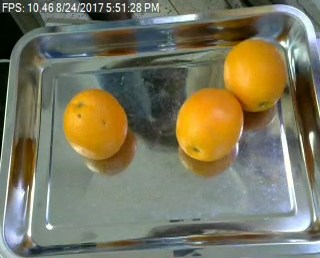Orange: (176, 86, 244, 160), (223, 38, 287, 112), (63, 88, 129, 159)
